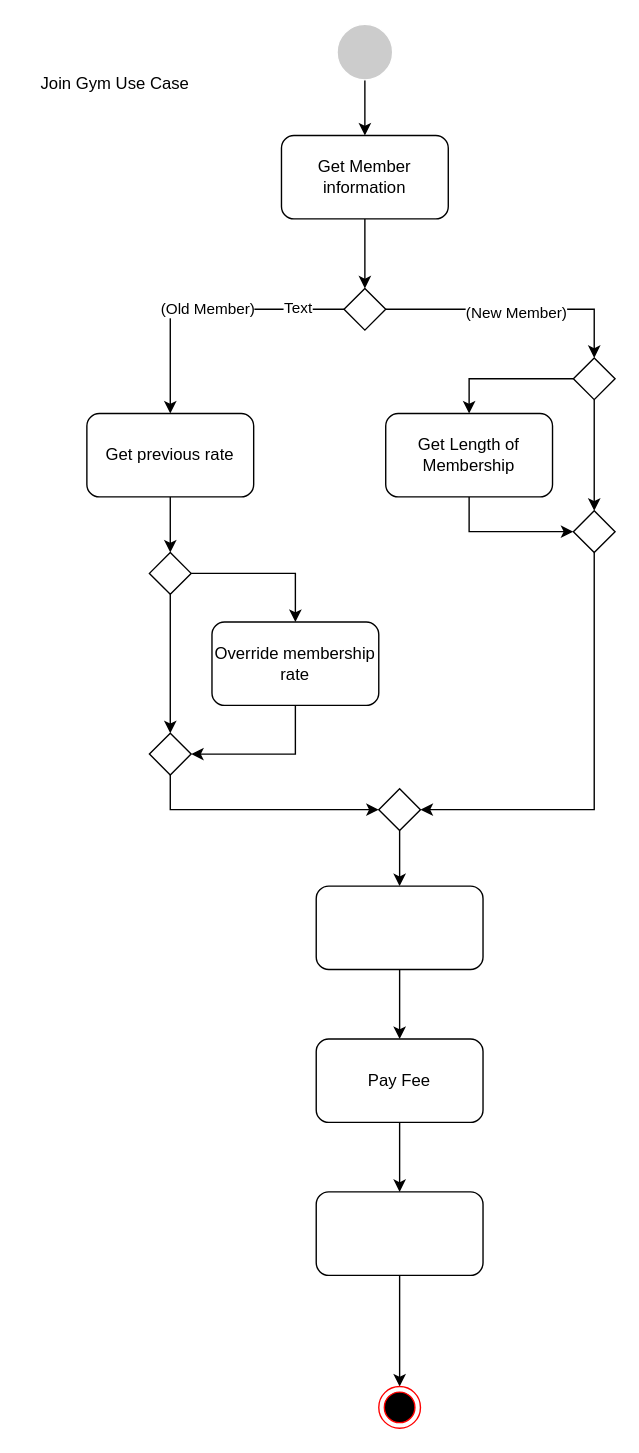
Image size: 639x1453. Some labels were removed from this diagram. Each missing label, with the box of its shape:
Apply Promotions: (315, 885, 483, 970)
Create Member: (315, 1191, 483, 1275)
